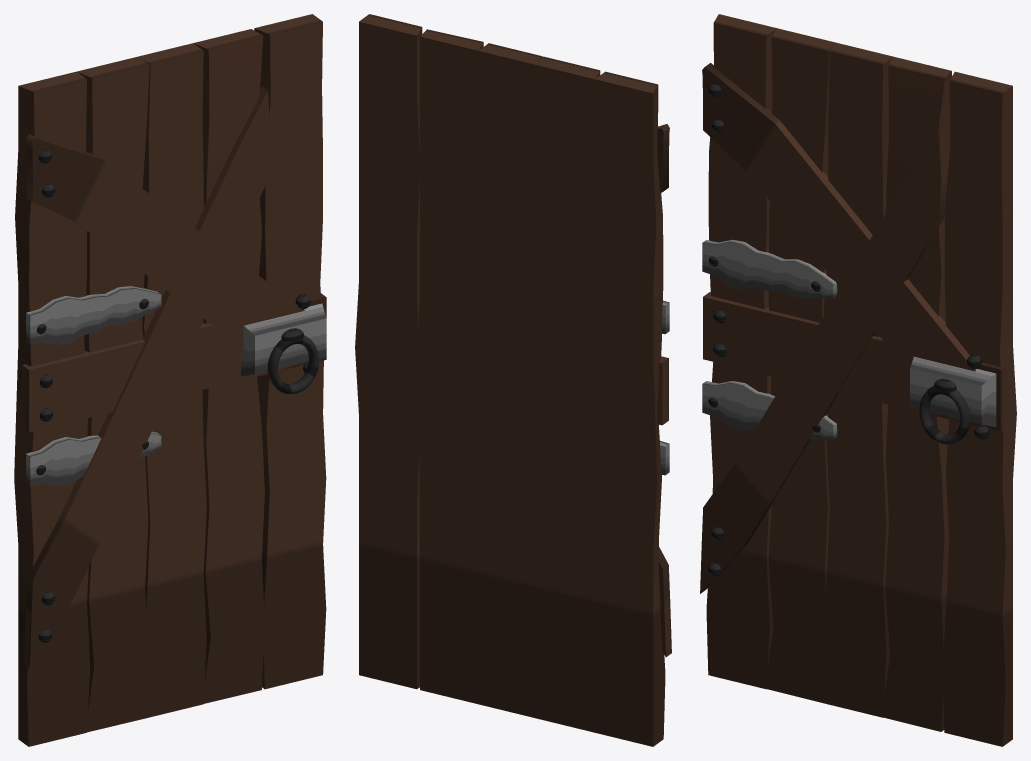
File: StorageDoor.FBX
The picture shows the model from 3 angles, left to right: view 1: azimuth 30°, elevation 25°; view 2: azimuth 150°, elevation 25°; view 3: azimuth 330°, elevation 25°; orthographic projection.
Parts seen in each view (by area): view 1: Box005, Box004, Box001, Box003, Box002, Box006, Box008, Box007, Box011, Box009, Box010, Torus001; view 2: Box001, Box005, Box003, Box002, Box004, Box006, Box008, Box007; view 3: Box005, Box004, Box003, Box002, Box006, Box001, Box008, Box007, Box011, Box009, Box010, Torus001.
Part boxes in pixels (bbox=[...]): Box005: bbox=[254, 14, 326, 689]; Box004: bbox=[135, 43, 206, 718]; Box001: bbox=[14, 71, 90, 746]; Box003: bbox=[193, 29, 264, 703]; Box002: bbox=[77, 57, 149, 732]; Box006: bbox=[24, 86, 270, 667]; Box008: bbox=[26, 134, 304, 370]; Box007: bbox=[22, 293, 326, 432]; Box011: bbox=[26, 286, 161, 345]; Box009: bbox=[241, 303, 326, 376]; Box010: bbox=[26, 431, 161, 486]; Torus001: bbox=[267, 335, 318, 394]; Box001: bbox=[591, 71, 665, 746]; Box005: bbox=[355, 14, 422, 689]; Box003: bbox=[416, 29, 483, 703]; Box002: bbox=[533, 56, 600, 732]; Box004: bbox=[477, 43, 541, 718]; Box006: bbox=[658, 547, 671, 657]; Box008: bbox=[657, 124, 669, 192]; Box007: bbox=[657, 356, 668, 425]; Box005: bbox=[942, 71, 1016, 746]; Box004: bbox=[823, 42, 892, 717]; Box003: bbox=[883, 56, 951, 731]; Box002: bbox=[765, 28, 835, 703]; Box006: bbox=[700, 129, 946, 593]; Box001: bbox=[706, 14, 776, 689]; Box008: bbox=[702, 63, 975, 419]; Box007: bbox=[703, 292, 1007, 431]; Box011: bbox=[702, 239, 837, 298]; Box009: bbox=[910, 356, 996, 426]; Box010: bbox=[702, 381, 837, 439]; Torus001: bbox=[919, 386, 970, 444].
Bounding box in the file's own units: 34.33 × 70.94 × 5.64.
